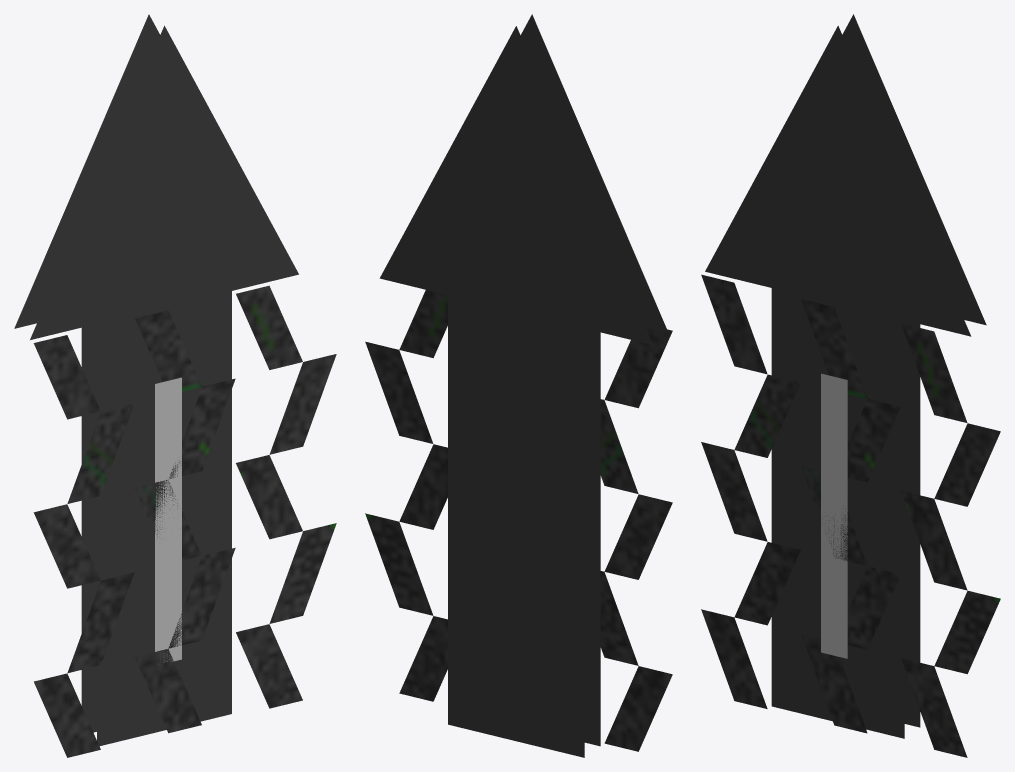
The model's file is arrow_up_tendril.obj.
3 renders of one model, left to right at view 1: azimuth 30°, elevation 25°; view 2: azimuth 150°, elevation 25°; view 3: azimuth 330°, elevation 25°, orthographic. The views are drawn at different scales.
Visible parts, largest first — view 1: ArrowHead, ArrowTendrils, ArrowStem, ArrowGlow; view 2: ArrowStem, ArrowHead, ArrowTendrils; view 3: ArrowHead, ArrowStem, ArrowTendrils, ArrowGlow.
Boxes of the visible parts, box(x1,y1,x2,y2) form: ArrowHead: box(14, 14, 298, 339); ArrowTendrils: box(33, 285, 336, 757); ArrowStem: box(81, 291, 231, 746); ArrowGlow: box(155, 377, 181, 664); ArrowStem: box(448, 295, 600, 757); ArrowHead: box(379, 14, 668, 344); ArrowTendrils: box(365, 290, 672, 751); ArrowHead: box(705, 14, 986, 336); ArrowStem: box(771, 288, 920, 738); ArrowTendrils: box(701, 274, 1000, 757); ArrowGlow: box(821, 373, 847, 658).
Size of the model in its own units: 0.45 by 1 by 0.05.
Materials: 3 (2 with a texture image).
